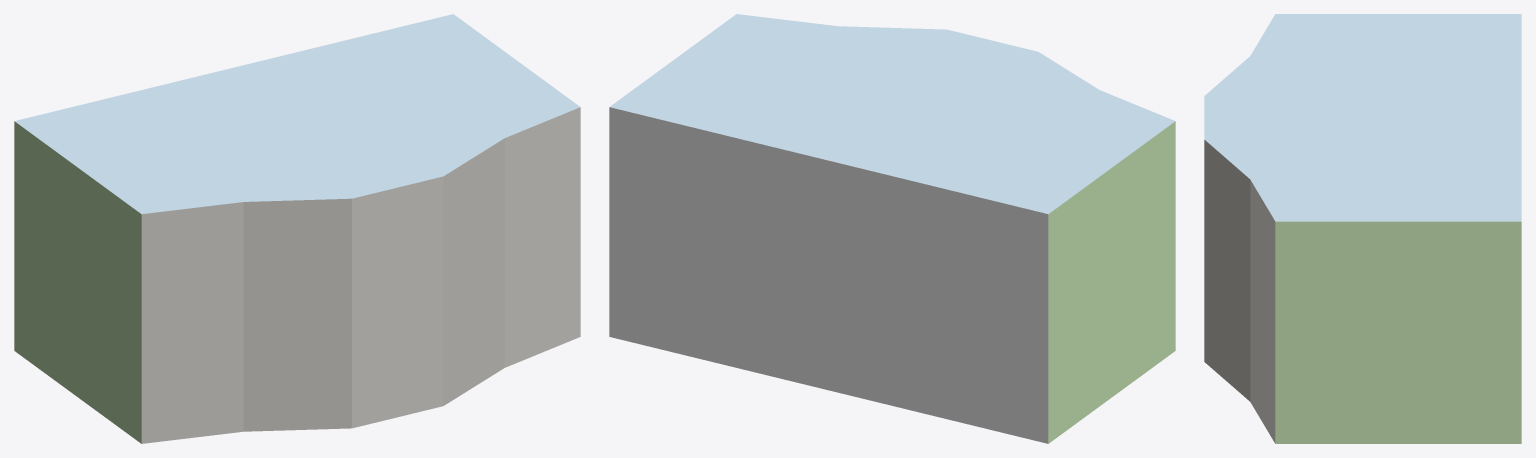
Rendered from Wall_Straight_Deformed_Convex_2x2_Mid.fbx.
The picture shows the model from 3 angles, left to right: view 1: azimuth 30°, elevation 25°; view 2: azimuth 150°, elevation 25°; view 3: azimuth 270°, elevation 25°; orthographic projection. The views are drawn at different scales.
Parts seen in each view (by area): view 1: Wall_Straight_Deformed_Convex_2x2_Mid; view 2: Wall_Straight_Deformed_Convex_2x2_Mid; view 3: Wall_Straight_Deformed_Convex_2x2_Mid.
Boxes of the visible parts, x1=… form: Wall_Straight_Deformed_Convex_2x2_Mid: x1=14, y1=14, x2=580, y2=443; Wall_Straight_Deformed_Convex_2x2_Mid: x1=609, y1=14, x2=1175, y2=443; Wall_Straight_Deformed_Convex_2x2_Mid: x1=1204, y1=14, x2=1521, y2=443.
Bounding box in the file's own units: 200 × 100 × 129.
